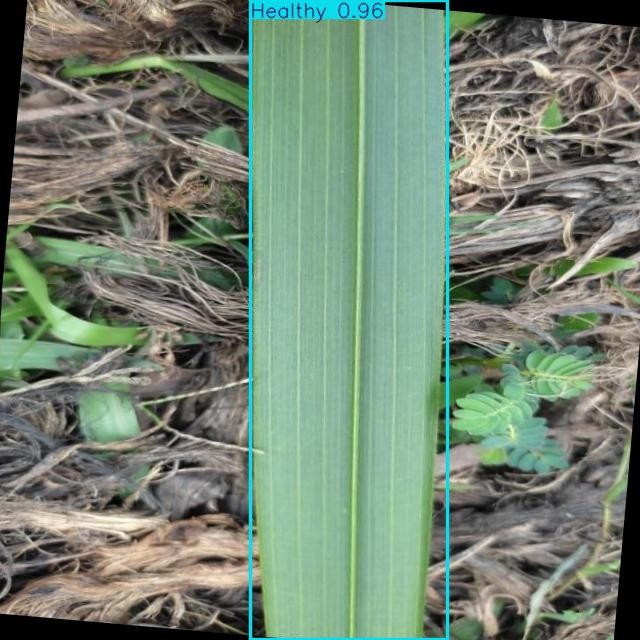Healthy: (250, 0, 447, 640)
